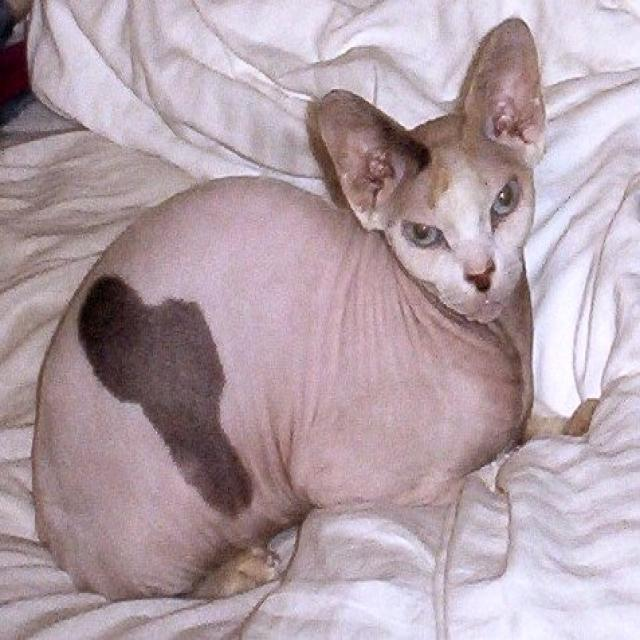Sphynx: (310, 12, 544, 331)
